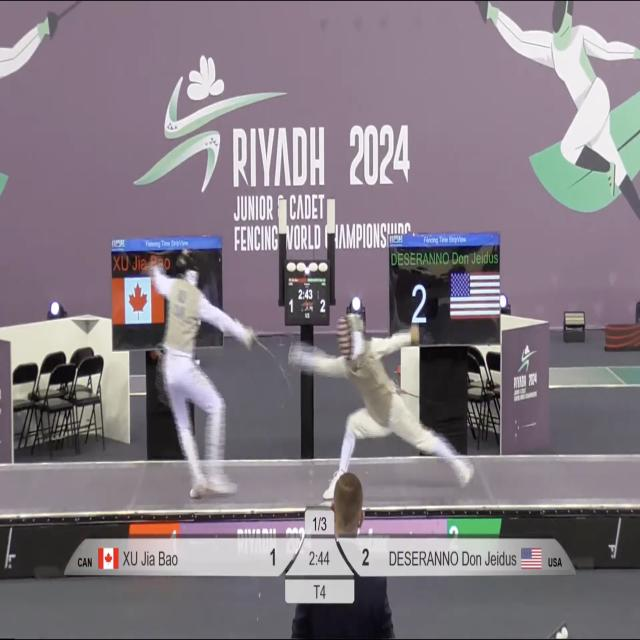fencer: (283, 295, 489, 501), (134, 239, 276, 501)
overlayLeft: (63, 534, 234, 577)
overlayRight: (384, 536, 577, 577)
scoreLeft: (248, 536, 301, 575)
scoreRight: (334, 535, 379, 577)
